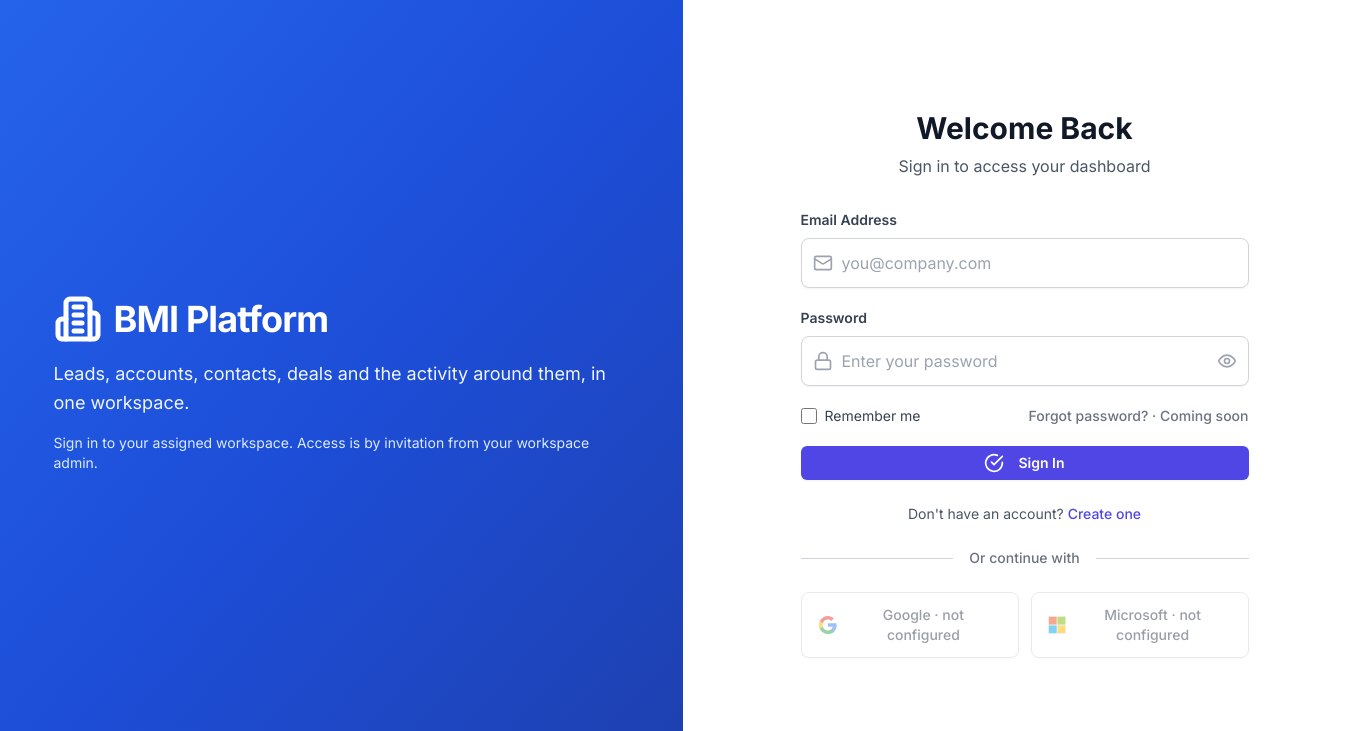
Test case: Login — attempts left come from the server › shows the server's remaining count and window
Type "asha@kora.example" into the field with id "email". click: (1024, 263)
box: [800,238,1248,288]
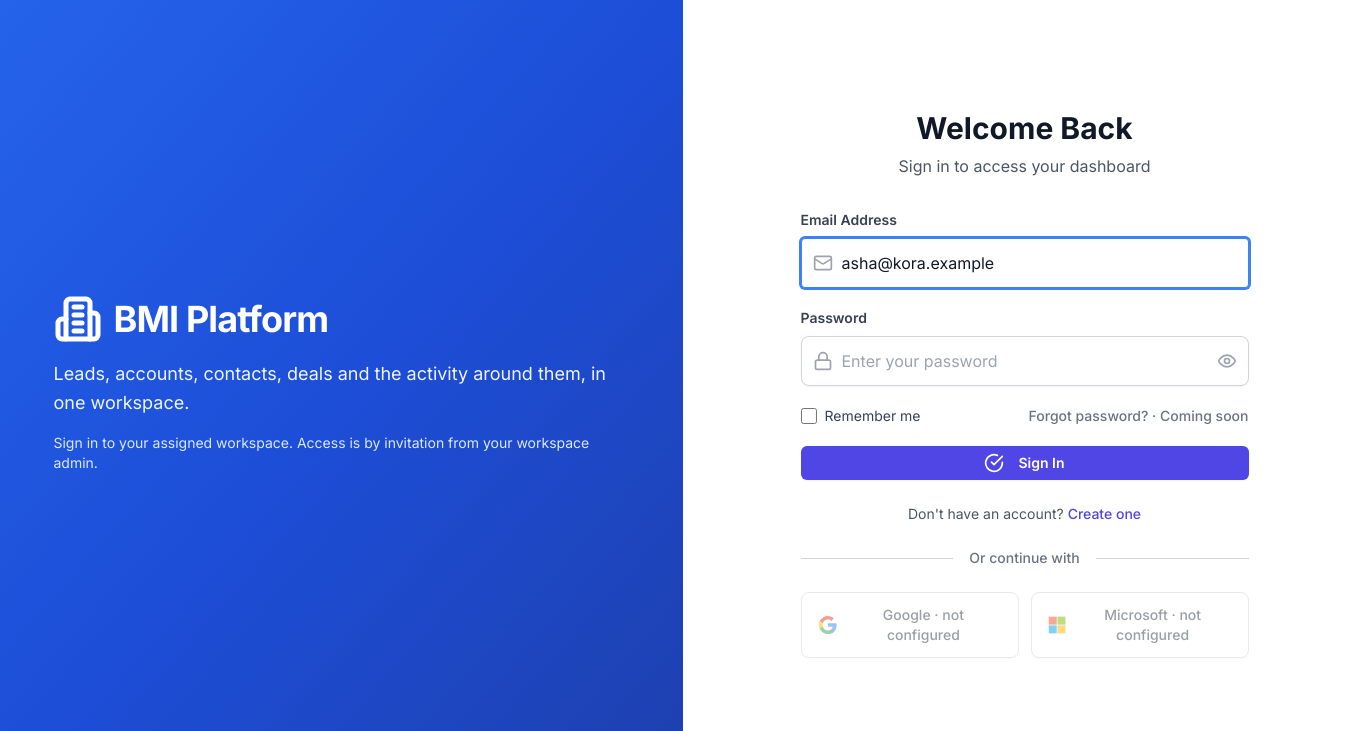
Type "wrong-password" into the password field labelled "Password". click: (1024, 361)
box: [800,336,1248,386]
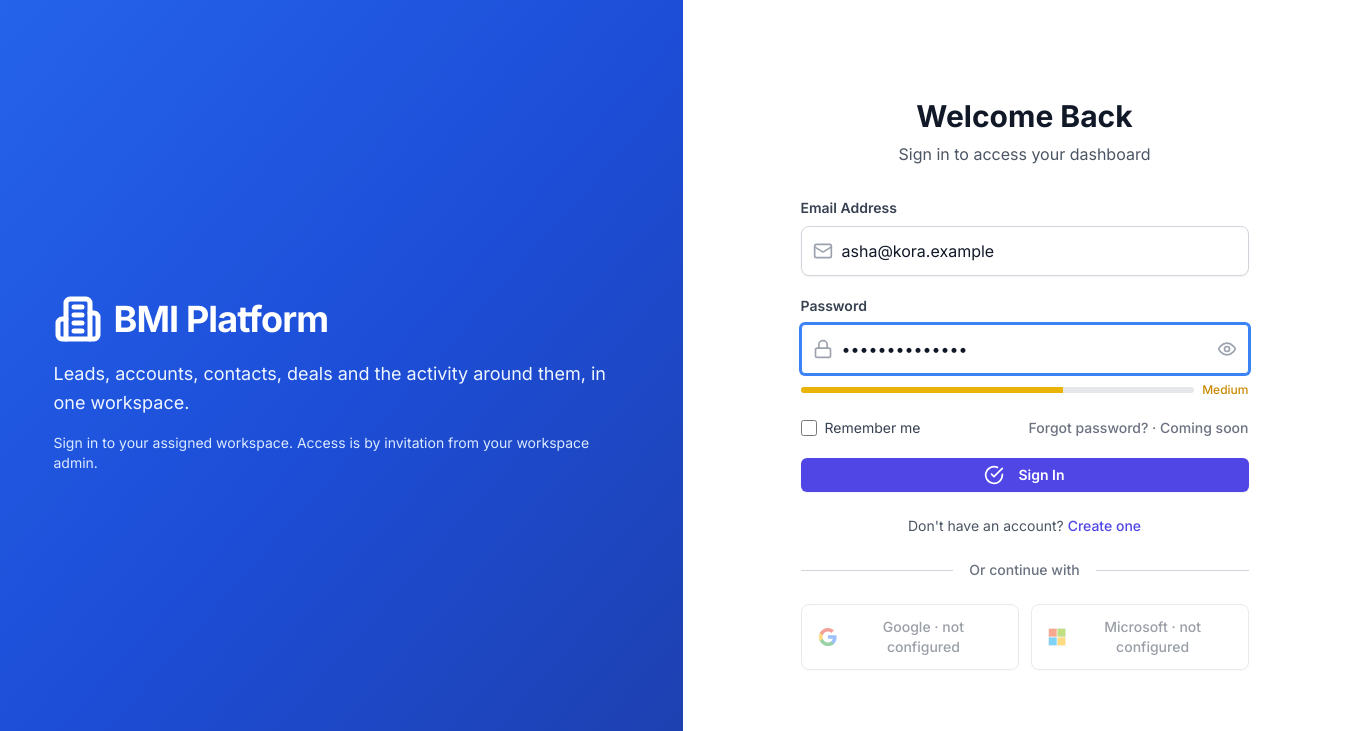
Click the button "Sign In". click: (1024, 475)
box: [800,458,1248,492]
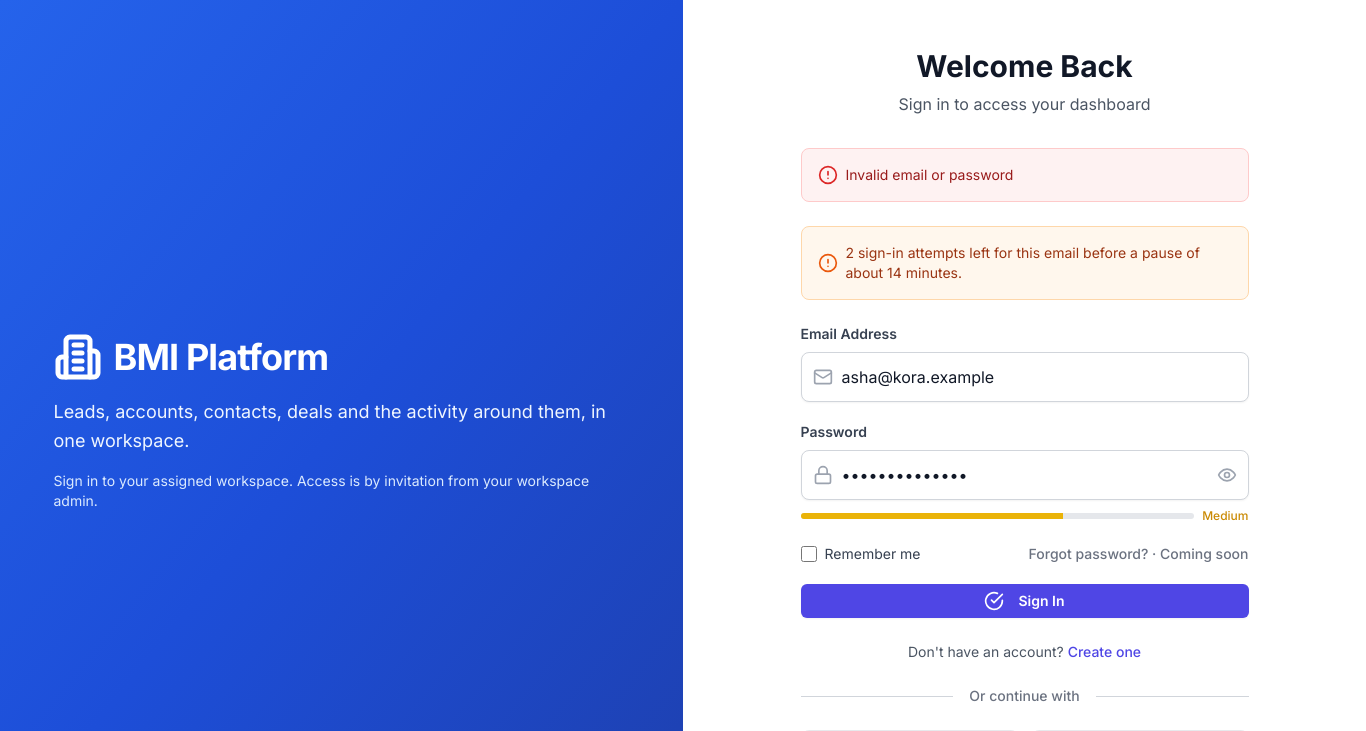
Result: the text "2 sign-in attempts left for this email before a pause of about 14 minutes." is shown at [846,243,1232,283]
